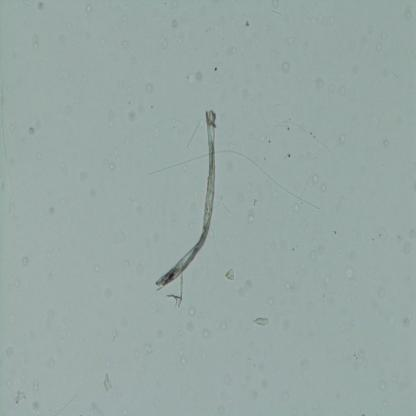Background material: (263, 121, 330, 162), (238, 279, 252, 299), (187, 72, 204, 87), (101, 372, 112, 394), (168, 293, 184, 308), (318, 13, 335, 25), (106, 108, 116, 126), (16, 390, 27, 406), (252, 316, 268, 326), (179, 348, 187, 366), (32, 33, 40, 51), (345, 264, 354, 280), (109, 329, 118, 345), (127, 109, 138, 122), (224, 268, 235, 281), (186, 303, 196, 317), (311, 173, 322, 185), (144, 342, 155, 354), (381, 136, 391, 149), (315, 78, 326, 89), (223, 203, 233, 215), (36, 0, 46, 12), (327, 81, 336, 94), (281, 60, 290, 72), (13, 276, 22, 288), (316, 244, 325, 256), (160, 38, 169, 50), (88, 186, 97, 198), (272, 0, 280, 13), (335, 135, 345, 145), (7, 347, 16, 358), (85, 4, 94, 15), (373, 39, 381, 51), (338, 84, 346, 96), (35, 150, 43, 162), (292, 205, 300, 217), (270, 189, 279, 199), (104, 289, 113, 299), (300, 359, 309, 369), (215, 74, 223, 85), (146, 83, 154, 94), (58, 32, 66, 43), (31, 400, 39, 411), (124, 134, 131, 146), (402, 318, 411, 327), (402, 10, 410, 20), (27, 125, 35, 135), (21, 257, 29, 267), (92, 263, 100, 273), (260, 380, 268, 390), (218, 320, 226, 330), (120, 40, 128, 50), (33, 379, 39, 392), (226, 163, 234, 172), (378, 288, 386, 297), (284, 281, 292, 290), (189, 221, 195, 232), (380, 31, 386, 42), (286, 36, 294, 44), (298, 262, 306, 270), (309, 250, 317, 258), (171, 0, 178, 9), (321, 183, 328, 192), (58, 162, 65, 171), (50, 206, 56, 216), (248, 214, 255, 222), (136, 207, 143, 215), (331, 229, 339, 236), (109, 164, 116, 172), (284, 152, 291, 160), (172, 19, 178, 28), (358, 350, 364, 359), (21, 0, 30, 6), (81, 172, 87, 181), (204, 329, 210, 338), (353, 350, 358, 360), (184, 164, 190, 172), (268, 298, 274, 306), (259, 133, 265, 141), (230, 46, 236, 54), (178, 330, 184, 338), (283, 392, 288, 401), (382, 401, 388, 408), (380, 384, 387, 390), (123, 262, 130, 268), (253, 198, 258, 206), (245, 19, 250, 27), (392, 374, 397, 382), (338, 248, 343, 254), (178, 37, 182, 44), (67, 22, 70, 30), (214, 67, 218, 71), (292, 247, 295, 251)
Cotton: (156, 107, 218, 292)
